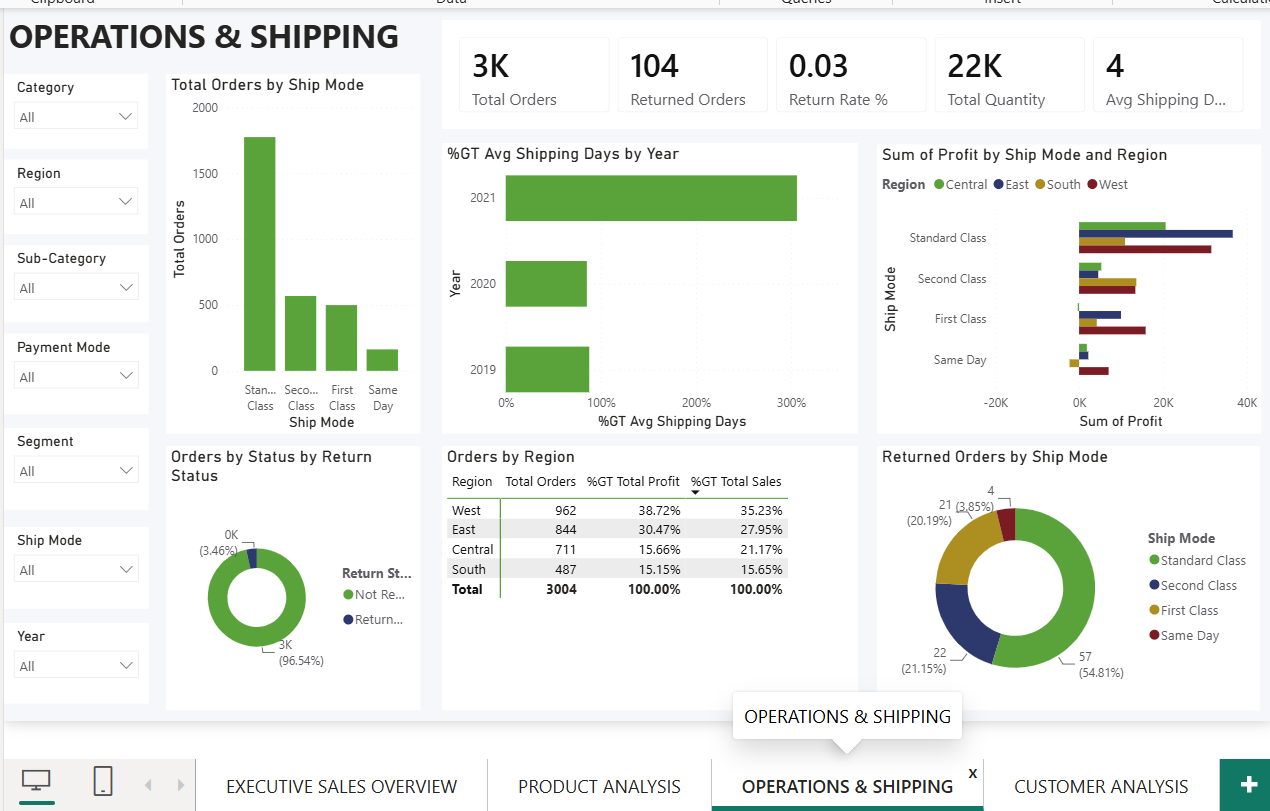

What the dashboard file says about the page in this screenshot:
{"tool":"powerbi","page":{"name":"OPERATIONS & SHIPPING","canvas":[1280,720],"ordinal":2},"visuals":[{"type":"cardVisual","fields":{"Data":["Table.Total Orders","Table.Returned Orders","Table.Return Rate %","Table.Total Quantity","Table.Avg Shipping Days"]},"box":[441.7,11.7,826.7,110],"z":0},{"type":"columnChart","fields":{"Category":["SuperStore_Sales_Dataset (2).Ship Mode"],"Y":["Table.Total Orders"]},"box":[163.3,66.7,256.7,363.3],"z":1000},{"type":"donutChart","fields":{"Category":["SuperStore_Sales_Dataset (2).Return Status"],"Y":["Table.Orders by Status"]},"box":[163.3,441.7,256.7,266.7],"z":2000},{"type":"barChart","fields":{"Y":["Table.Avg Shipping Days"],"Category":["SuperStore_Sales_Dataset (2).Ship Date.Variation.Date Hierarchy.Year","SuperStore_Sales_Dataset (2).Ship Date.Variation.Date Hierarchy.Month"]},"box":[441.7,136.7,420,293.3],"z":3000},{"type":"pivotTable","title":"Orders by Region","fields":{"Rows":["SuperStore_Sales_Dataset (2).Region"],"Values":["Table.Total Orders","Table.Total Profit","Table.Total Sales"]},"box":[441.7,441.7,420,266.7],"z":4000},{"type":"textbox","box":[0,0,420,61.7],"z":5000},{"type":"donutChart","fields":{"Category":["SuperStore_Sales_Dataset (2).Ship Mode"],"Y":["Table.Returned Orders"]},"box":[881.7,441.7,386.7,266.7],"z":6000},{"type":"clusteredBarChart","fields":{"Series":["SuperStore_Sales_Dataset (2).Region"],"Category":["SuperStore_Sales_Dataset (2).Ship Mode"],"Y":["Sum(SuperStore_Sales_Dataset (2).Profit)"]},"box":[882,138,388,292],"z":7000},{"type":"slicer","fields":{"Values":["SuperStore_Sales_Dataset (2).Category"]},"box":[0,66.7,145,75],"z":8000},{"type":"slicer","fields":{"Values":["SuperStore_Sales_Dataset (2).Region"]},"box":[0,153.3,145,75],"z":9000},{"type":"slicer","fields":{"Values":["SuperStore_Sales_Dataset (2).Sub-Category"]},"box":[0,238.6,145.8,77.9],"z":10000},{"type":"slicer","fields":{"Values":["SuperStore_Sales_Dataset (2).Payment Mode"]},"box":[0,328,145.8,81.2],"z":11000},{"type":"slicer","fields":{"Values":["SuperStore_Sales_Dataset (2).Segment"]},"box":[0,424.1,145.8,82.8],"z":12000},{"type":"slicer","fields":{"Values":["SuperStore_Sales_Dataset (2).Ship Mode"]},"box":[0,523.5,145.8,82.8],"z":13000},{"type":"slicer","fields":{"Values":["Calendar.Year"]},"box":[0,621.2,145.8,81.2],"z":14000}]}

Visuals, with their boxes on the page's 1280x720 design canvas (x1, y1, x2, y2). These are canvas units, not pixel positions in the 1270x811 screenshot, which may show the page scaled, cropped or inside an application window:
cardVisual - Table.Total Orders x Table.Returned Orders: select_region(442, 12, 1268, 122)
columnChart - SuperStore_Sales_Dataset (2).Ship Mode x Table.Total Orders: select_region(163, 67, 420, 430)
donutChart - SuperStore_Sales_Dataset (2).Return Status x Table.Orders by Status: select_region(163, 442, 420, 708)
barChart - Table.Avg Shipping Days x SuperStore_Sales_Dataset (2).Ship Date.Variation.Date Hierarchy.Year: select_region(442, 137, 862, 430)
"Orders by Region" pivotTable: select_region(442, 442, 862, 708)
textbox: select_region(0, 0, 420, 62)
donutChart - SuperStore_Sales_Dataset (2).Ship Mode x Table.Returned Orders: select_region(882, 442, 1268, 708)
clusteredBarChart - SuperStore_Sales_Dataset (2).Region x SuperStore_Sales_Dataset (2).Ship Mode: select_region(882, 138, 1270, 430)
slicer - SuperStore_Sales_Dataset (2).Category: select_region(0, 67, 145, 142)
slicer - SuperStore_Sales_Dataset (2).Region: select_region(0, 153, 145, 228)
slicer - SuperStore_Sales_Dataset (2).Sub-Category: select_region(0, 239, 146, 316)
slicer - SuperStore_Sales_Dataset (2).Payment Mode: select_region(0, 328, 146, 409)
slicer - SuperStore_Sales_Dataset (2).Segment: select_region(0, 424, 146, 507)
slicer - SuperStore_Sales_Dataset (2).Ship Mode: select_region(0, 524, 146, 606)
slicer - Calendar.Year: select_region(0, 621, 146, 702)
